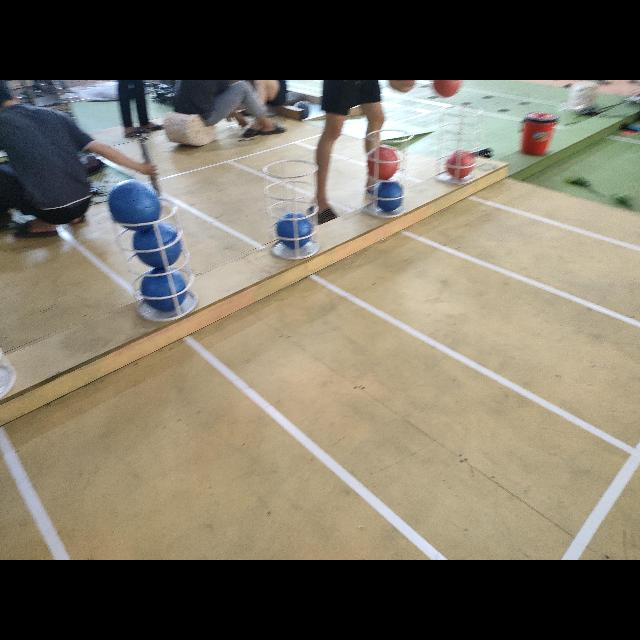B: (109, 180, 161, 230), (134, 226, 180, 268), (142, 269, 186, 311), (276, 213, 312, 249), (373, 181, 402, 211)
R: (366, 145, 398, 179), (446, 149, 472, 179)
